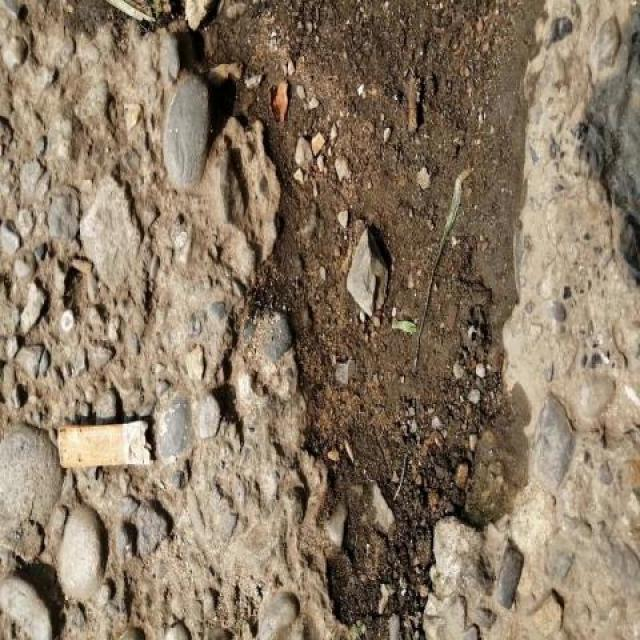non-organic waste: (51, 413, 161, 476)
